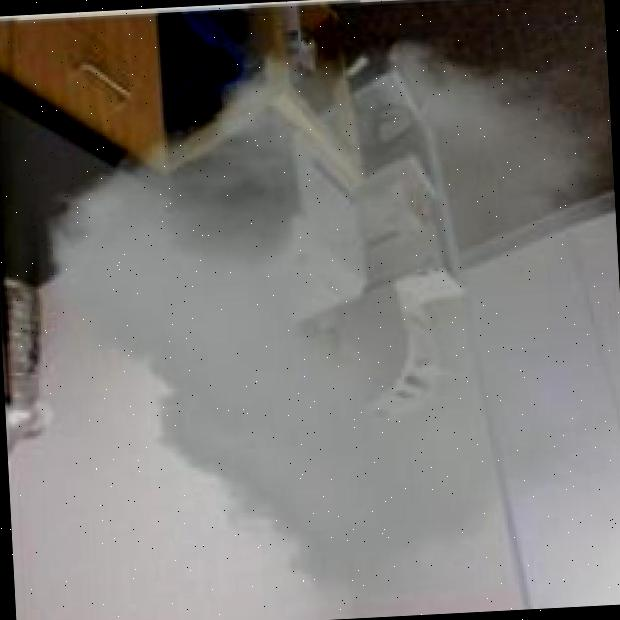smoke: (38, 26, 620, 610)
